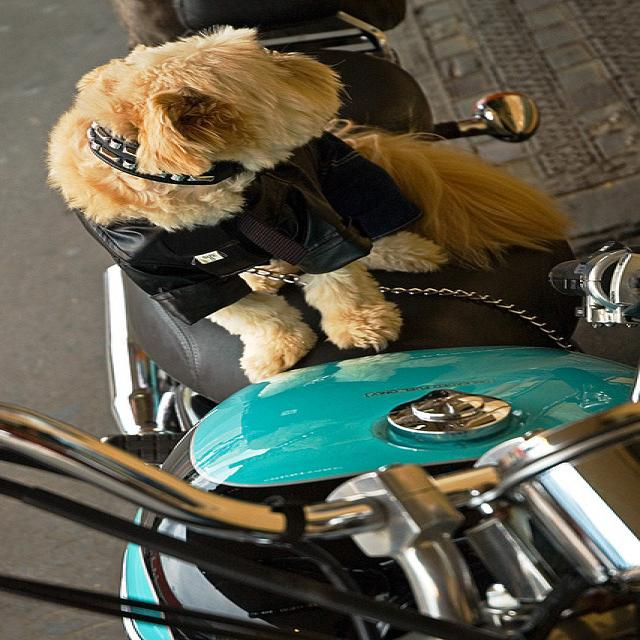motor: (0, 0, 640, 631)
